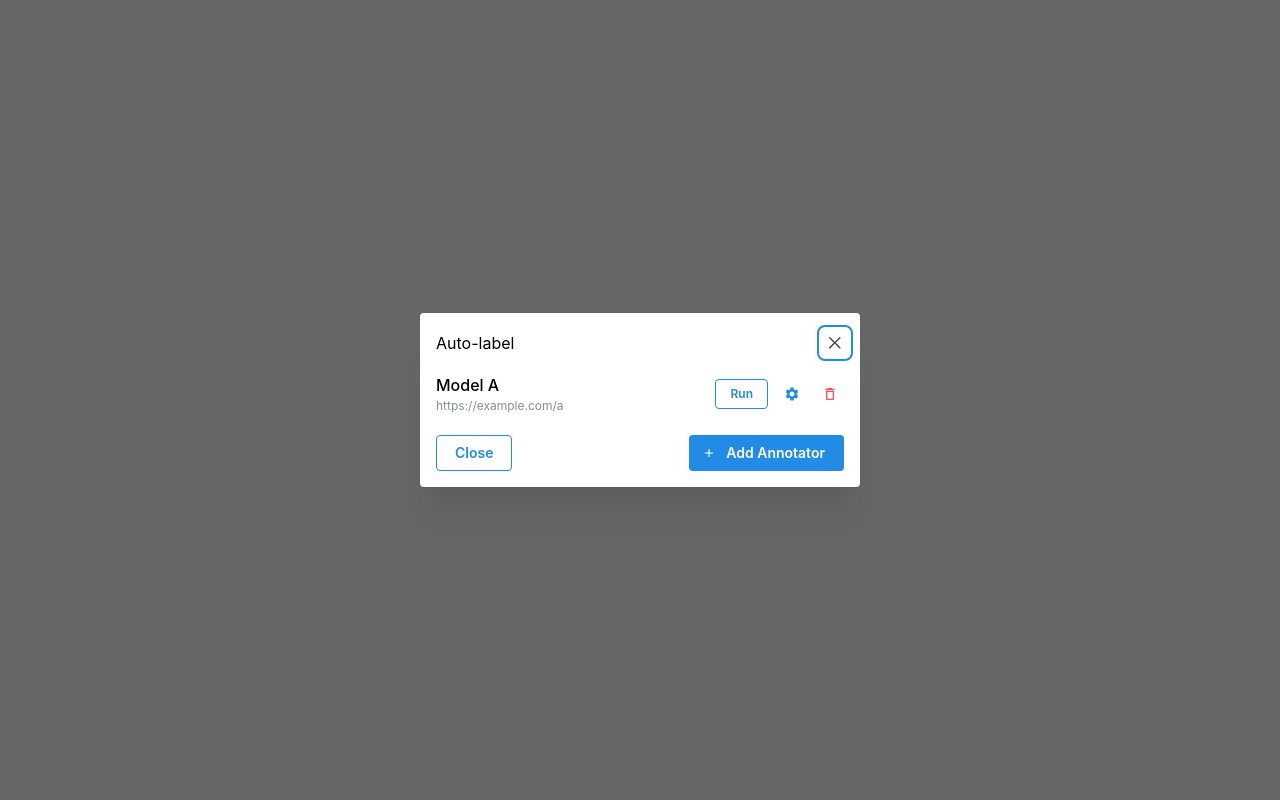
Scenario: AnnotatorsModal › connects and guesses a mapping by name before running
Click the button "Run" at (742, 394), box [716, 379, 768, 409]
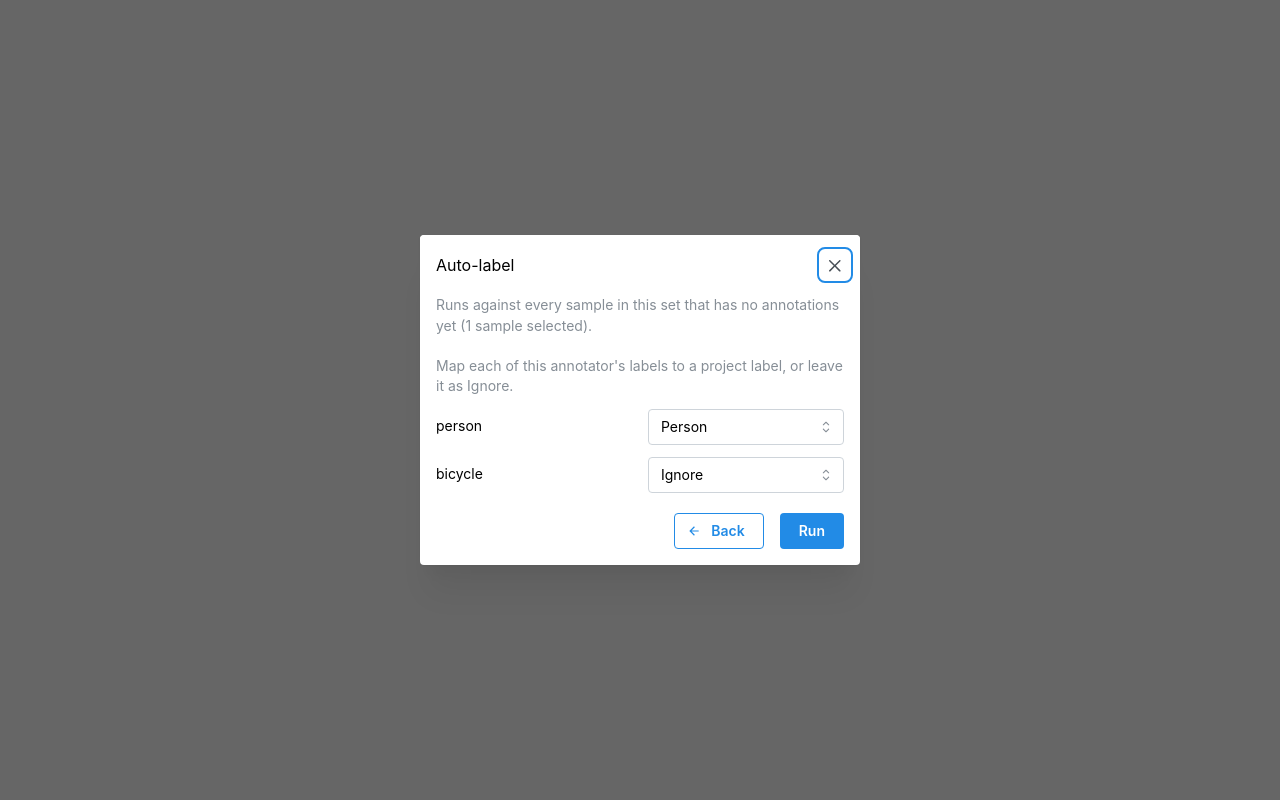
Expected: the text "person" is shown, [436, 417, 482, 434]
Expected: the field showing "Person" in the row of "person" is shown, [648, 409, 844, 445]
Expected: the field showing "Ignore" in the row of "bicycle" is shown, [648, 457, 844, 493]
Click the button "Run" at (812, 531), box [780, 513, 844, 549]
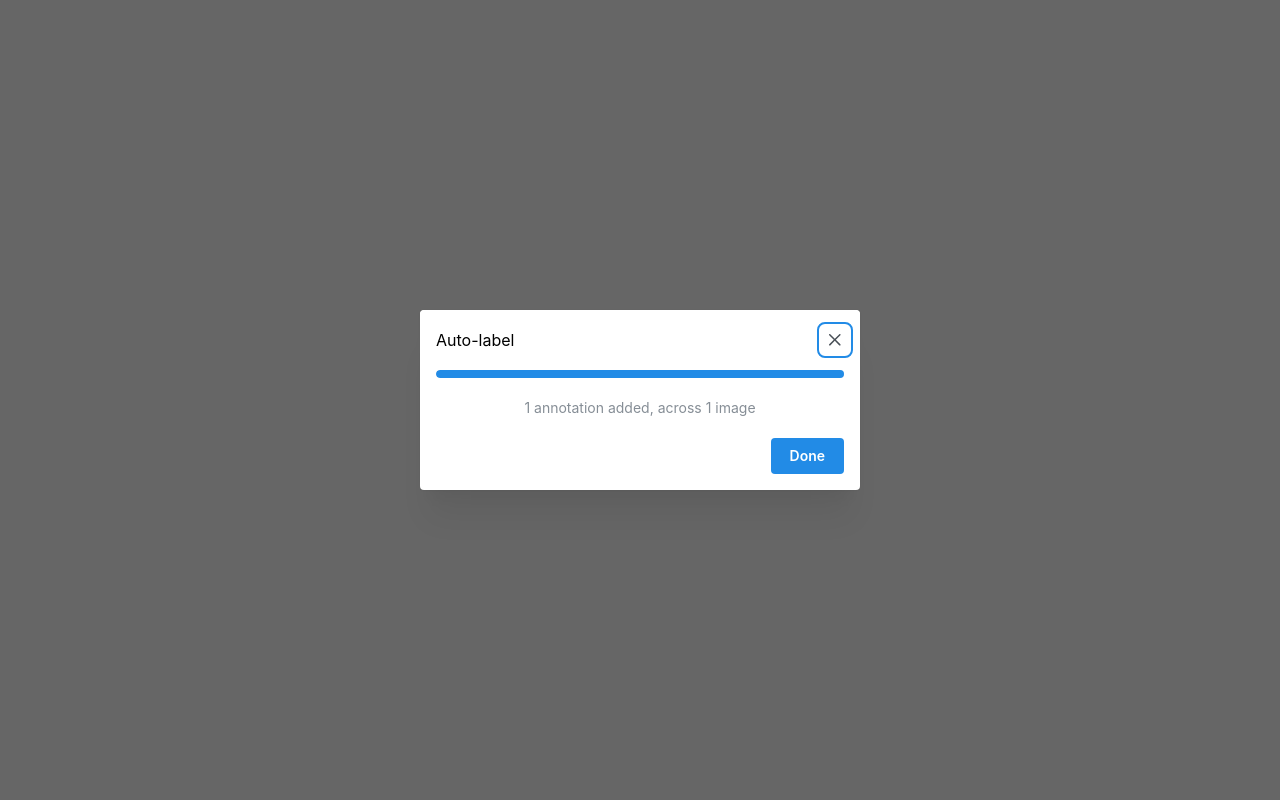
Expected: the text "1 annotation added, across 1 image" is shown, [524, 399, 756, 416]
